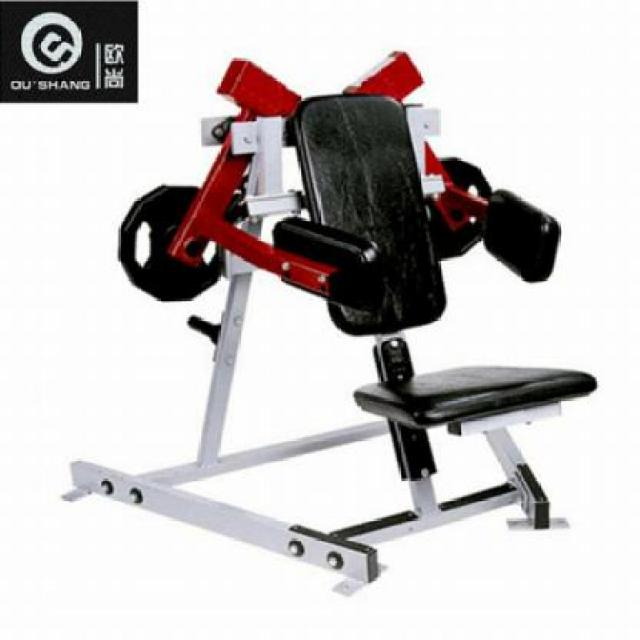lateral raises machine: (138, 51, 600, 603)
